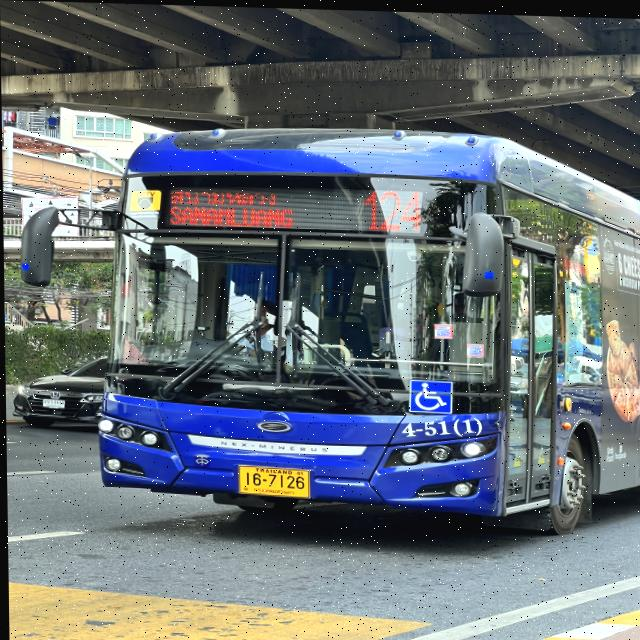Bus-Line-Number: (357, 182, 428, 235)
Destination-Sign-Normal: (161, 180, 300, 230)
TSB-Bus: (93, 120, 640, 534)
